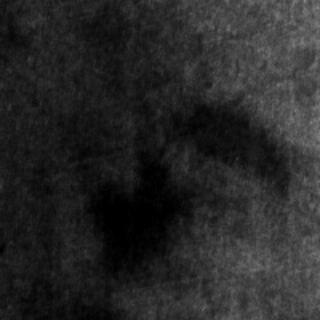patches: (75, 131, 188, 283), (157, 88, 291, 202)
